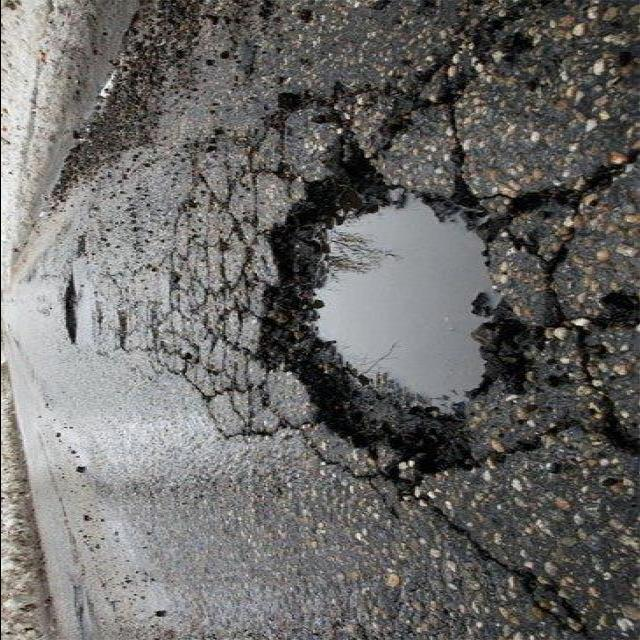jalan retak: (349, 459, 622, 640), (500, 207, 640, 476), (146, 169, 272, 449), (195, 355, 378, 491), (249, 81, 493, 180), (407, 1, 563, 148), (346, 60, 496, 204), (470, 156, 640, 250), (94, 262, 175, 400), (94, 466, 205, 508), (59, 583, 107, 640)
lubang: (237, 154, 522, 482), (56, 270, 82, 348), (111, 310, 138, 352), (71, 234, 93, 256)
